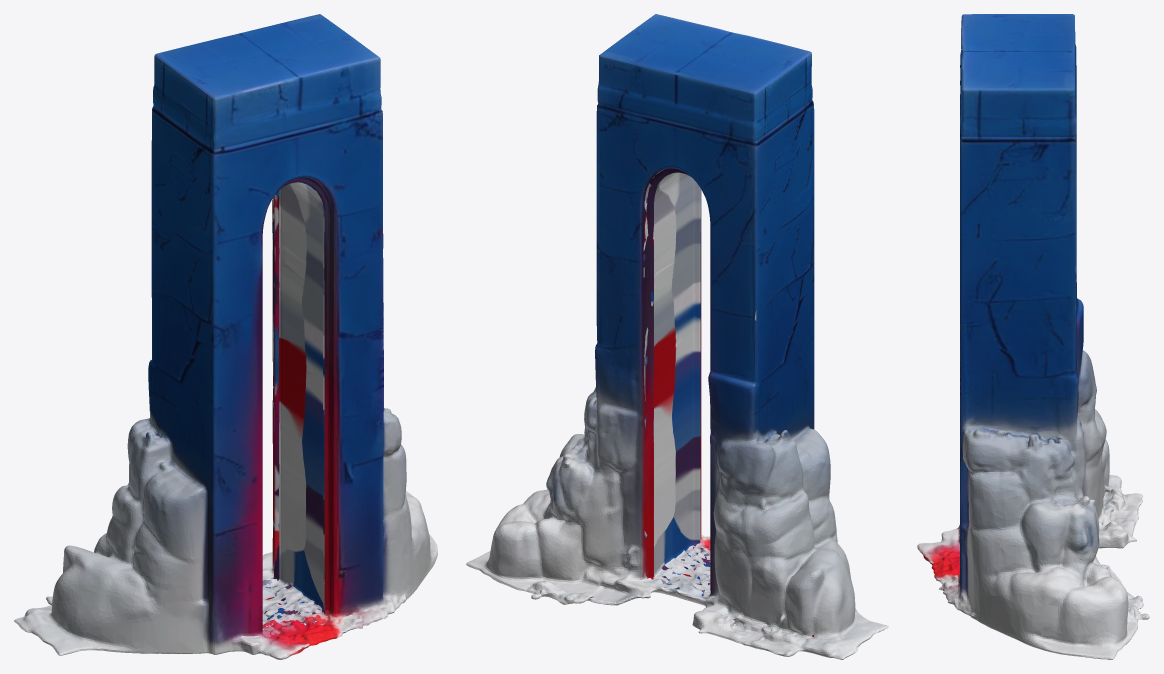
Rendered from weathered-monolith-pillar-generated-2026-04-18t22-01-36-007z-generated-2026-04-19T00-42-38-513Z.medium.glb.
3 renders of one model, left to right at view 1: azimuth 30°, elevation 25°; view 2: azimuth 150°, elevation 25°; view 3: azimuth 270°, elevation 25°, orthographic. The views are drawn at different scales.
Parts seen in each view (by area): view 1: temp_mesh.ply; view 2: temp_mesh.ply; view 3: temp_mesh.ply.
Part boxes in pixels (left/top/right/bottom): temp_mesh.ply: left=14, top=14, right=437, bottom=659; temp_mesh.ply: left=466, top=14, right=888, bottom=659; temp_mesh.ply: left=917, top=14, right=1149, bottom=659.
Bounding box in the file's own units: 1.5 × 1.97 × 0.8029.
Materials: 1 (1 with a texture image).
